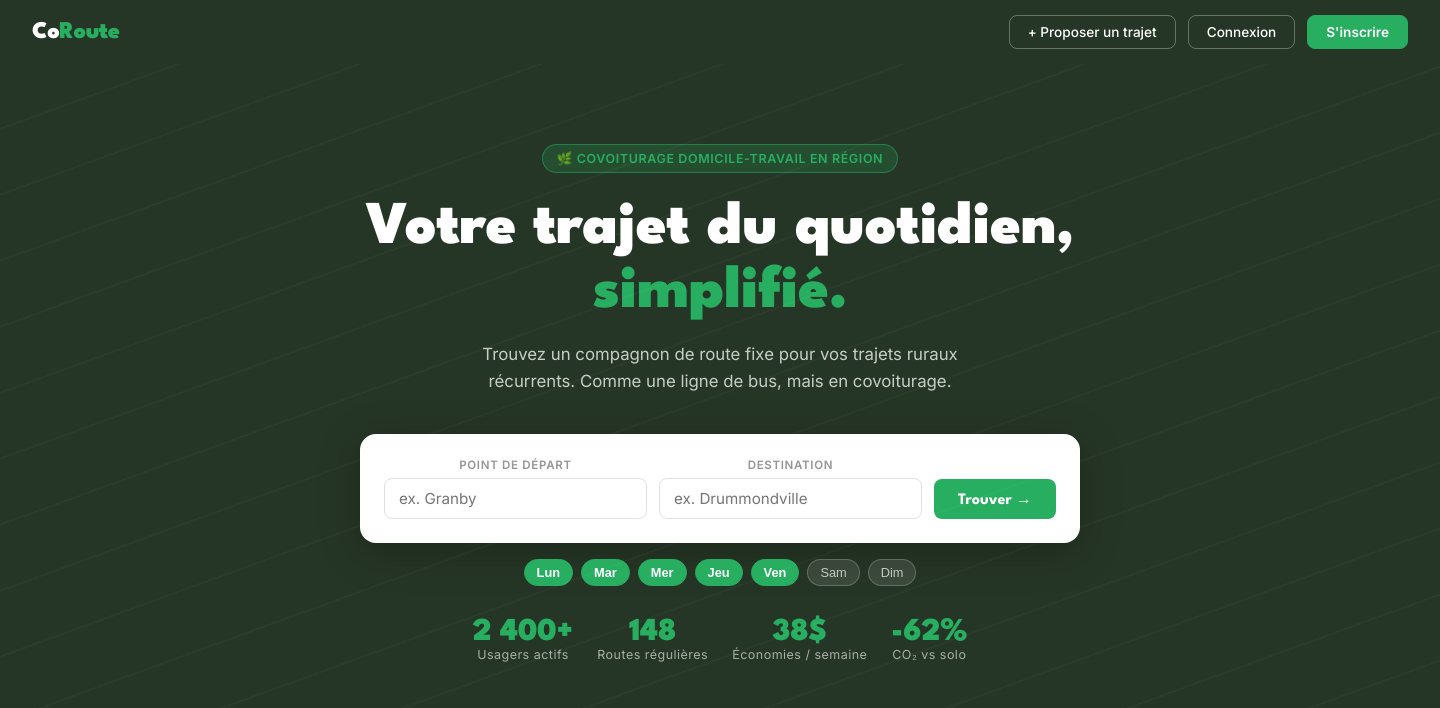
Test: App › resetSearch revient à la vue des routes fixes
What coordinates should you click on to do the following:
click the button "Trouver →"
I would click on:
 (995, 499)
Its box is [934,479,1056,519].
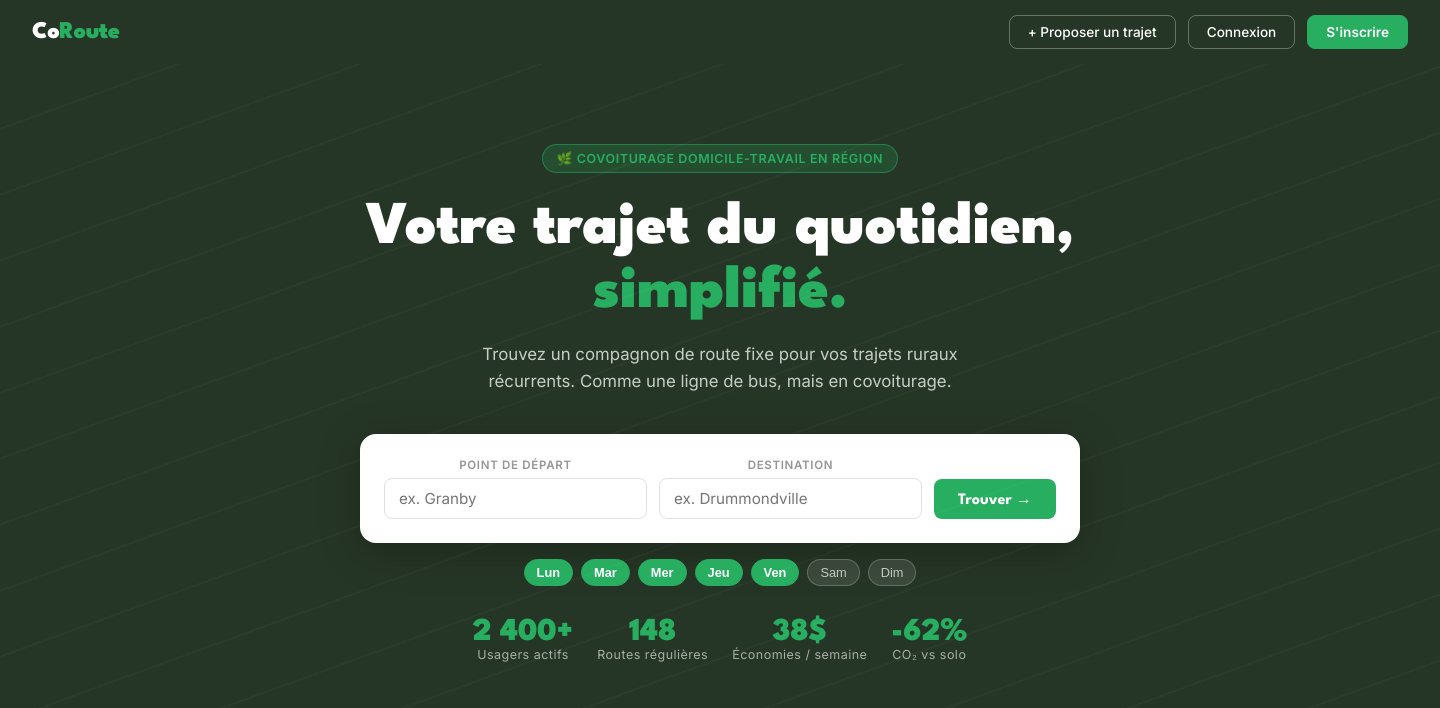
What coordinates should you click on to do the following:
click the button with aria-label "Retour à l'accueil"
I would click on:
 (76, 32)
Its box is [32,21,120,43].
(page scrolled)
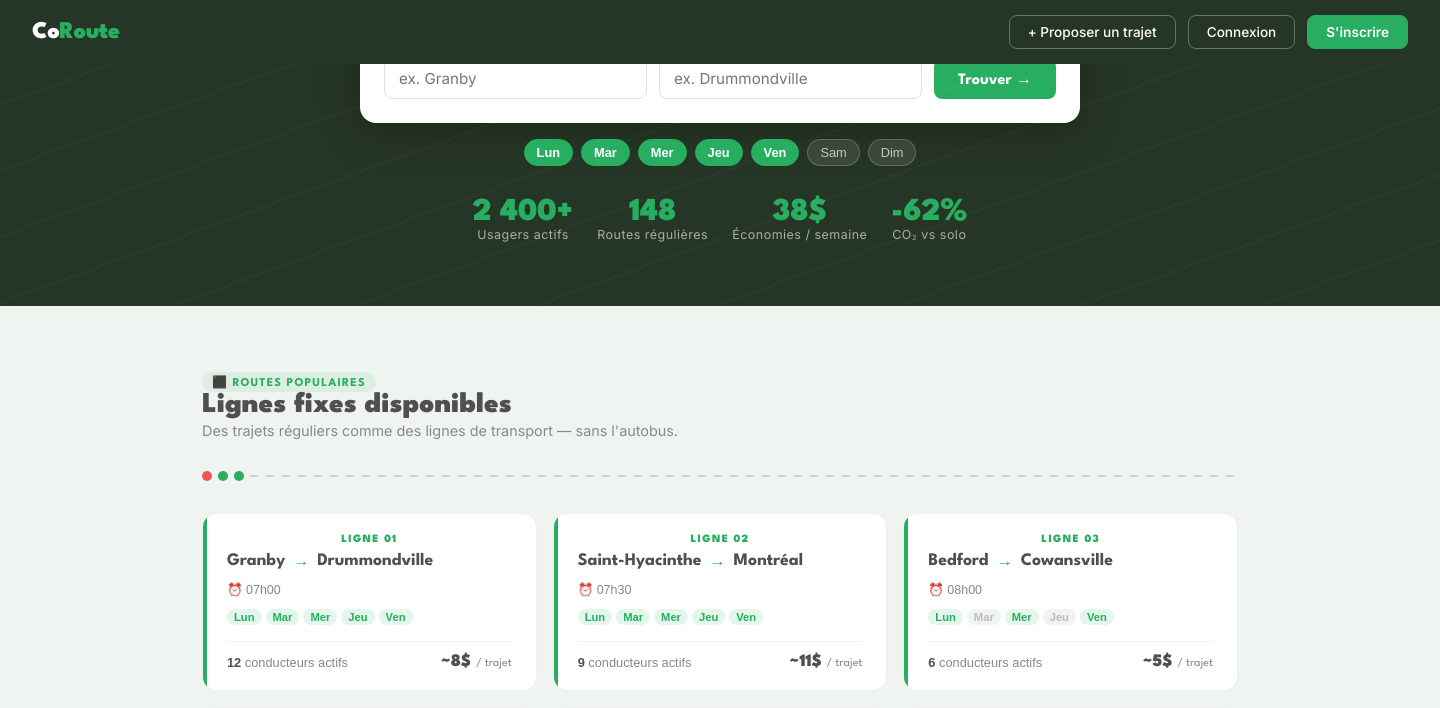
Expected: the heading "Lignes fixes disponibles" is shown, [202,392,512,418]
